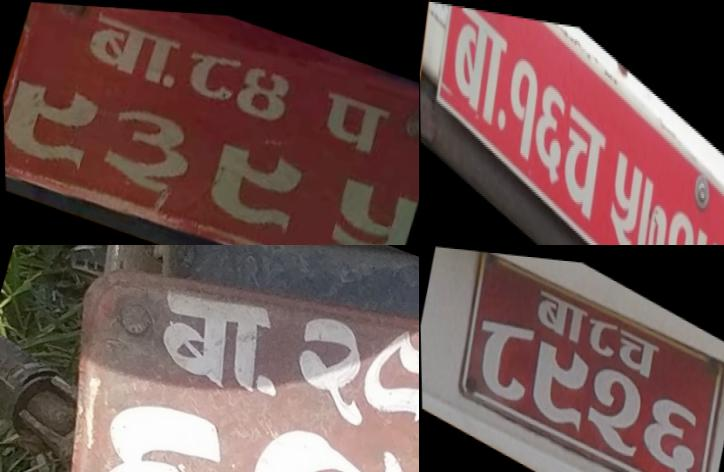0: (227, 401, 412, 472)
1: (500, 33, 544, 168), (658, 175, 698, 245)
2: (269, 295, 391, 430), (578, 350, 652, 463)
3: (94, 95, 199, 201)
4: (231, 56, 295, 122)
5: (317, 167, 419, 245), (602, 129, 646, 245), (684, 201, 724, 245)
6: (65, 372, 309, 472), (636, 379, 709, 472), (528, 60, 572, 192)
7: (630, 153, 672, 245)
8: (465, 295, 540, 411), (180, 41, 243, 101), (582, 305, 621, 360)
9: (197, 131, 309, 234), (2, 68, 103, 172), (523, 324, 596, 437), (354, 303, 419, 428)
ba: (132, 260, 285, 407), (78, 7, 184, 93), (446, 4, 510, 139), (530, 278, 590, 346)
cha: (554, 85, 610, 229), (612, 317, 661, 378)
pa: (313, 82, 385, 150)
